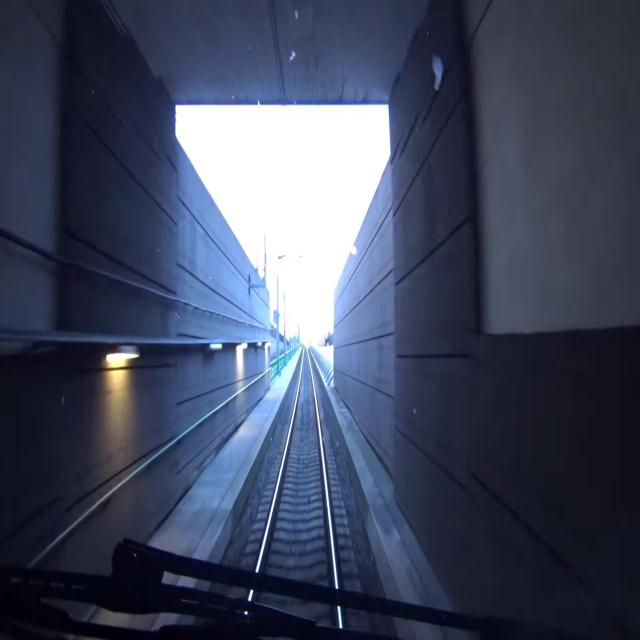rail-track: (261, 350, 333, 580)
